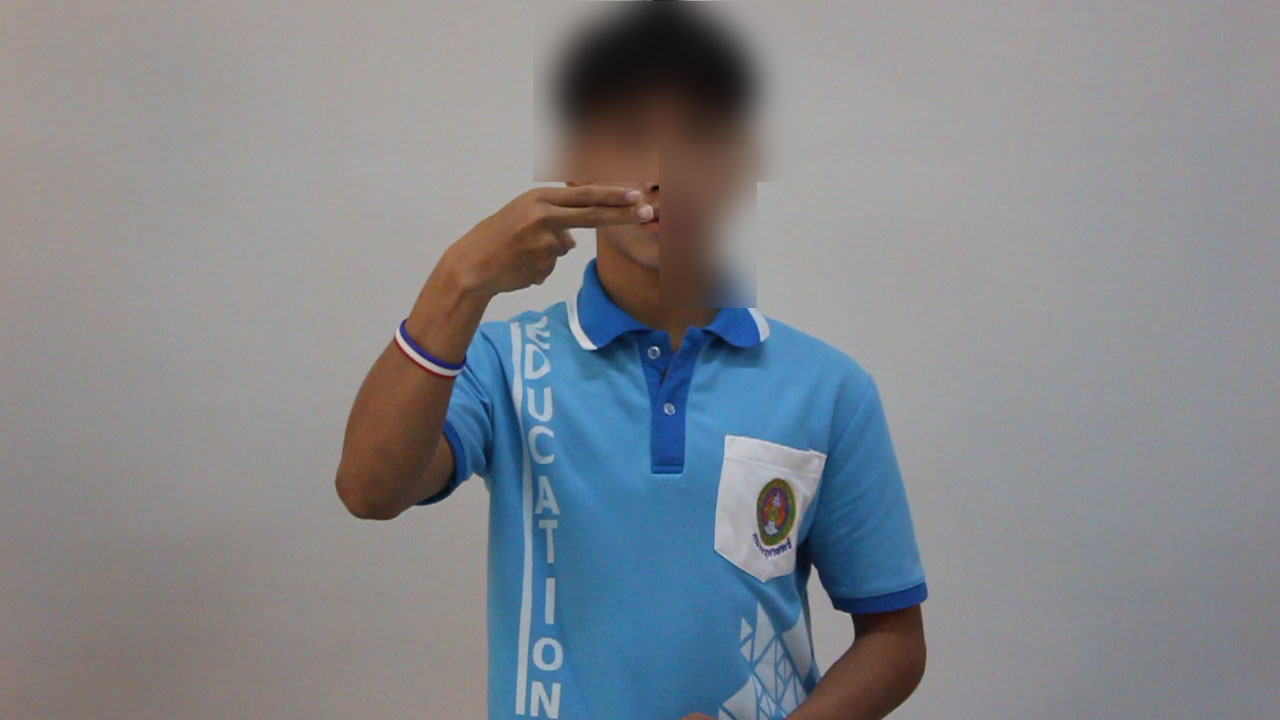hor: (438, 178, 665, 302)
